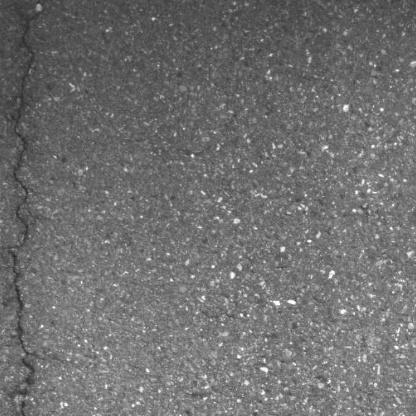Cracks: (0, 0, 50, 416)
